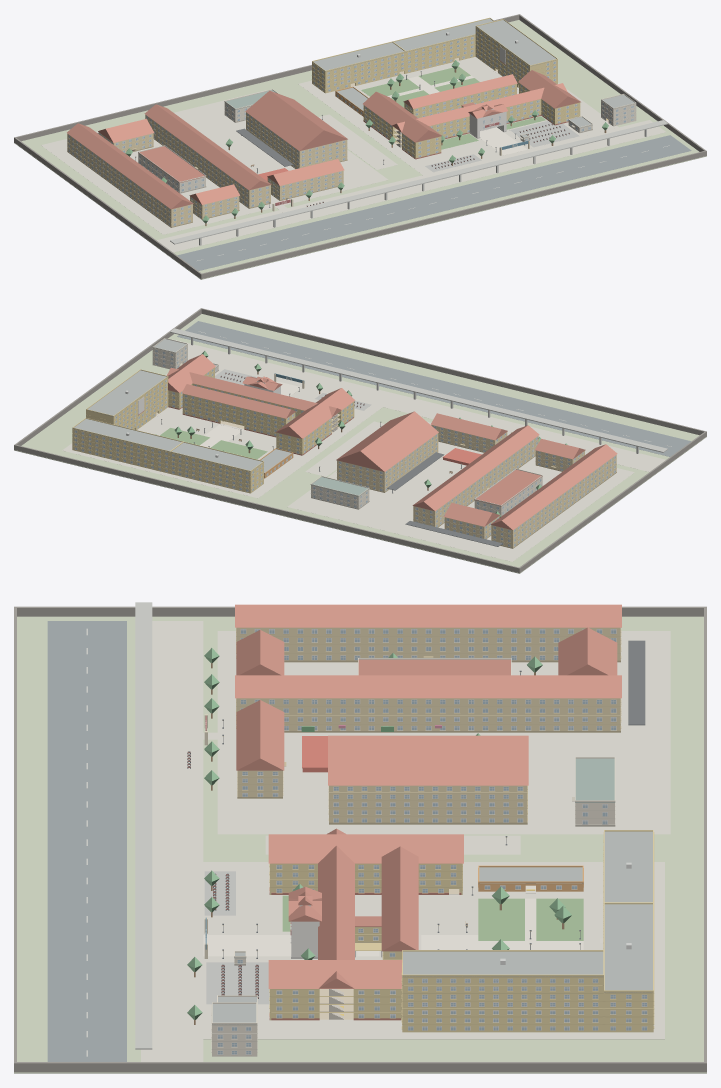
Rendered from campus_blockout.glb.
3 views of the same model, one above another, from view 1: azimuth 30°, elevation 25°; view 2: azimuth 150°, elevation 25°; view 3: azimuth 270°, elevation 25° (orthographic). The views are drawn at different scales.
Visible parts, largest first — view 1: ground, nguyen_trai_approx, ussh_yard, sidewalk, hus_yard, BOUNDARY_S, USSH_E__F0__A85343, railway_deck, USSH_B__F0__A85343, USSH_C__F0__A85343, USSH_B__F0__E7CB89, BOUNDARY_N (+29 smaller); view 2: ground, nguyen_trai_approx, ussh_yard, sidewalk, hus_yard, BOUNDARY_N, BOUNDARY_S, USSH_E__F0__A85343, railway_deck, USSH_B__F0__A85343, USSH_C__F0__A85343, USSH_B__F0__E7CB89 (+31 smaller); view 3: ground, nguyen_trai_approx, ussh_yard, sidewalk, hus_yard, USSH_E__F0__A85343, USSH_B__F0__A85343, USSH_C__F0__A85343, USSH_C__F0__E7CB89, railway_deck, USSH_B__F0__E7CB89, BOUNDARY_E (+51 smaller).
Boxes of the visible parts, x1,y1,x2,y2 form: ground: (14, 20, 706, 279); nguyen_trai_approx: (177, 135, 691, 270); ussh_yard: (41, 90, 388, 234); sidewalk: (157, 120, 665, 252); hus_yard: (298, 57, 618, 174); BOUNDARY_S: (200, 150, 706, 279); USSH_E__F0__A85343: (245, 90, 347, 150); railway_deck: (170, 120, 667, 244); USSH_B__F0__A85343: (67, 123, 193, 209); USSH_C__F0__A85343: (144, 104, 271, 190); USSH_B__F0__E7CB89: (67, 134, 192, 226); BOUNDARY_N: (14, 14, 519, 142); ground: (14, 314, 706, 573); nguyen_trai_approx: (177, 321, 690, 456); ussh_yard: (287, 421, 634, 561); sidewalk: (173, 339, 665, 471); hus_yard: (62, 359, 382, 498); BOUNDARY_N: (14, 444, 520, 573); BOUNDARY_S: (201, 308, 706, 436); USSH_E__F0__A85343: (336, 411, 438, 471); railway_deck: (170, 328, 667, 452); USSH_B__F0__A85343: (490, 444, 617, 530); USSH_C__F0__A85343: (412, 425, 539, 510); USSH_B__F0__E7CB89: (491, 455, 616, 547); ground: (14, 616, 706, 1073); nguyen_trai_approx: (47, 621, 126, 1061); ussh_yard: (217, 631, 670, 834); sidewalk: (141, 621, 203, 1061); hus_yard: (203, 862, 664, 1039); USSH_E__F0__A85343: (328, 735, 528, 785); USSH_B__F0__A85343: (235, 604, 621, 627); USSH_C__F0__A85343: (235, 675, 621, 698); USSH_C__F0__E7CB89: (236, 698, 620, 730); railway_deck: (135, 602, 152, 1049); USSH_B__F0__E7CB89: (236, 627, 620, 660); BOUNDARY_E: (17, 1062, 703, 1072).
Size of the model in its own units: 496 by 34.64 by 318.
